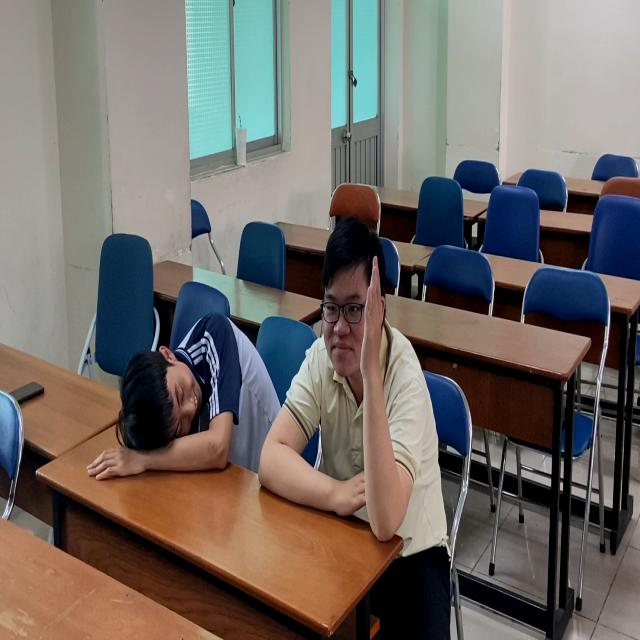raise_hand: (303, 212, 425, 555)
sleep: (88, 300, 271, 488)
